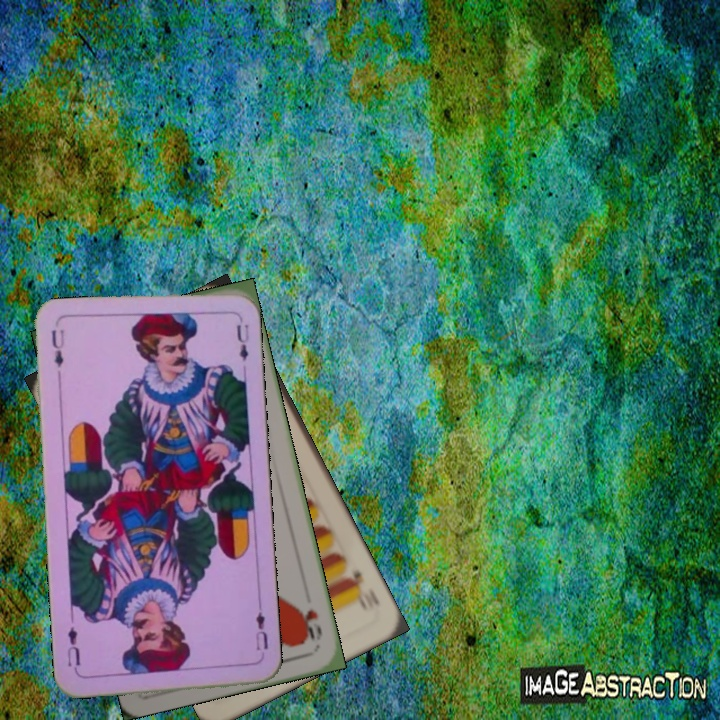E10: (343, 564, 377, 611)
EU: (251, 607, 270, 653), (48, 325, 67, 370)
HO: (295, 602, 325, 643)
